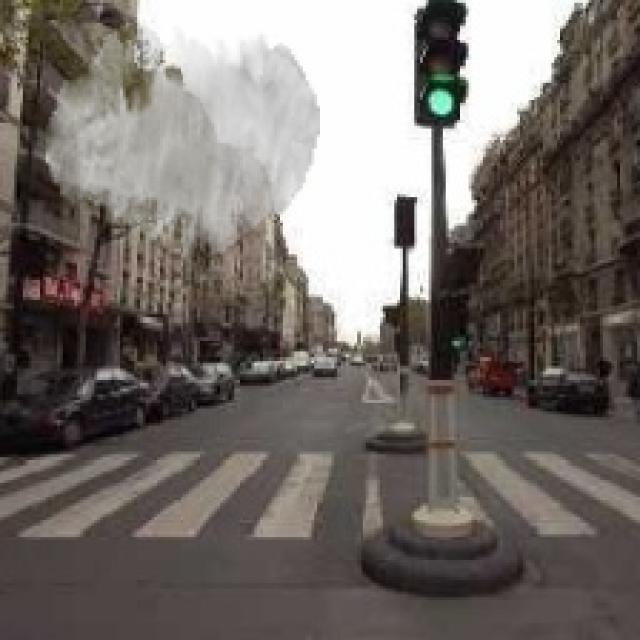Smoke: (46, 26, 320, 258)
